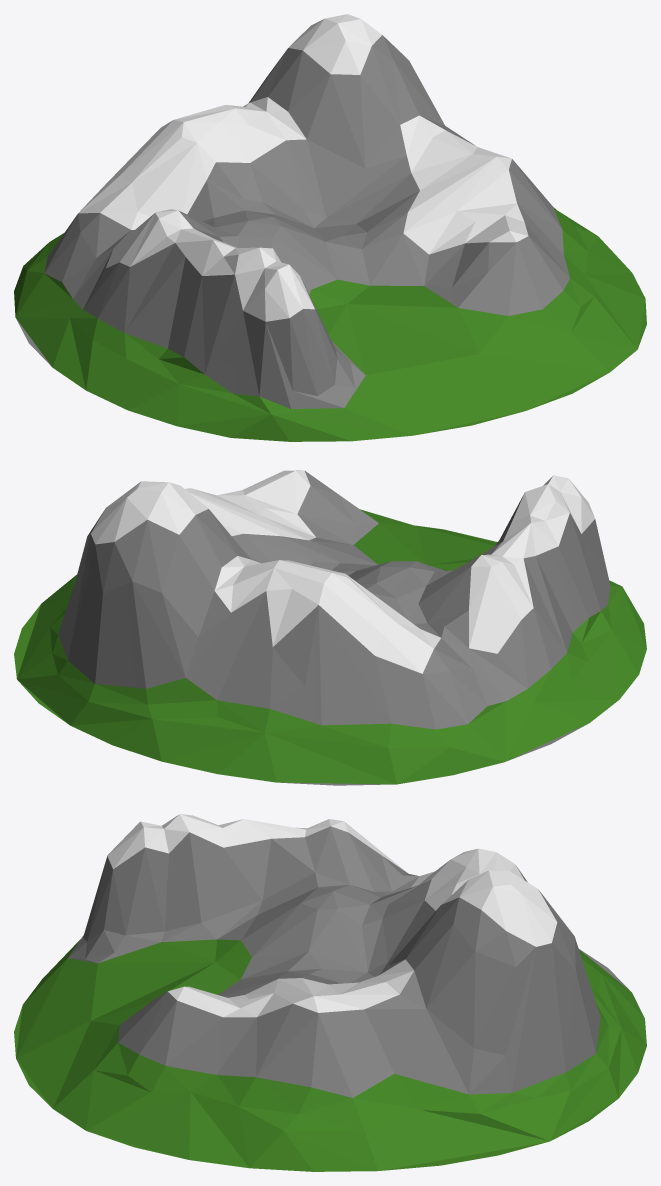
File: mountaine3B.fbx
The picture shows the model from 3 angles, top to bottom: view 1: azimuth 30°, elevation 25°; view 2: azimuth 150°, elevation 25°; view 3: azimuth 270°, elevation 25°; orthographic projection. The views are drawn at different scales.
Parts seen in each view (by area): view 1: land3; view 2: land3; view 3: land3.
Part boxes in pixels (x1,y1,x2,y2): land3: (14,14,646,441); land3: (14,470,646,785); land3: (14,814,646,1171).
Size of the model in its own units: 3813 by 1401 by 3813.
